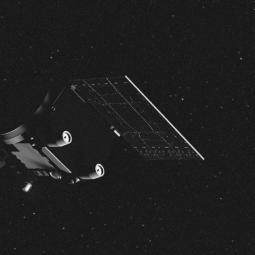proba_3_csc: (0, 62, 204, 196)
